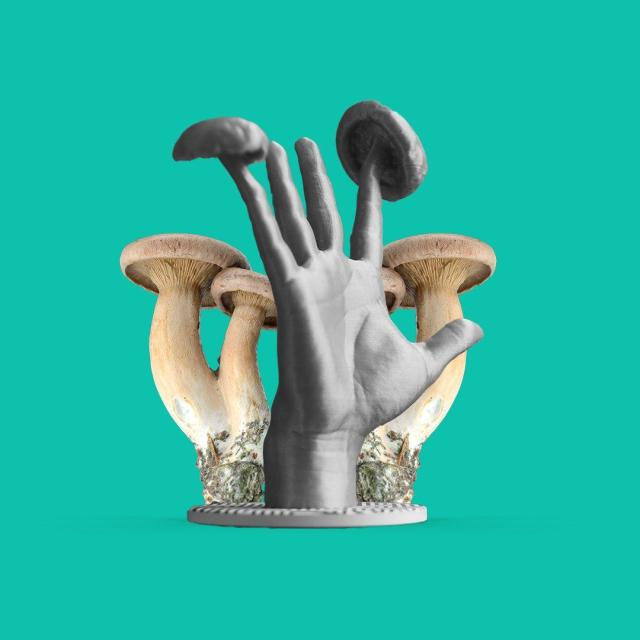Without deffect: (128, 91, 488, 550)
